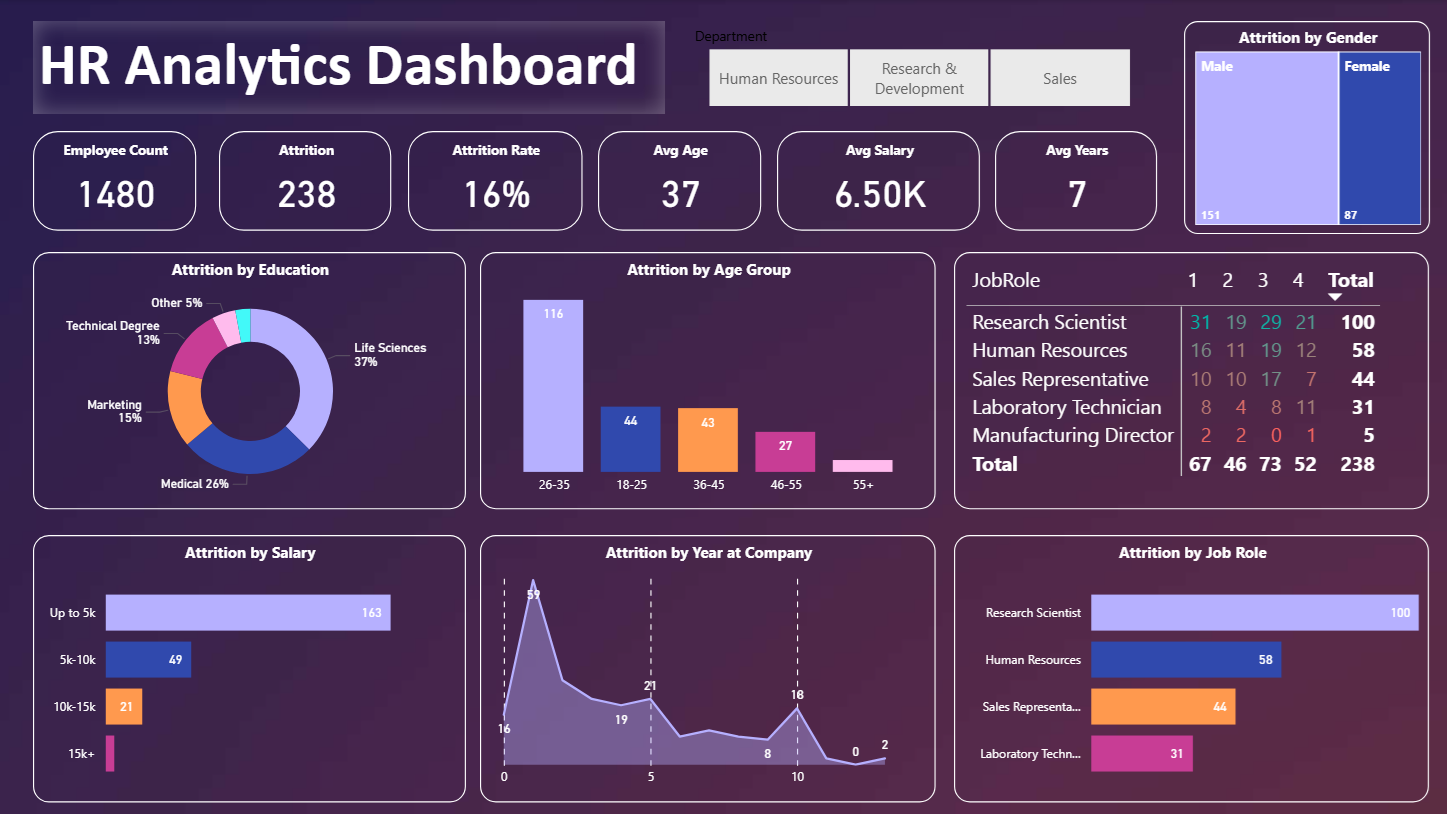

The page's visual inventory and layout, read from the dashboard file:
{"tool":"powerbi","page":{"name":"Page 1","canvas":[1280,720],"ordinal":0},"visuals":[{"type":"card","title":"Employee Count","fields":{"Values":["CountNonNull(HR_Data.EmpID)"]},"box":[29.2,115.7,143.8,87.6],"z":0},{"type":"card","title":"Attrition","fields":{"Values":["Sum(HR_Data.Attrition_Count)"]},"box":[193.5,115.7,152.4,87.6],"z":1000},{"type":"card","title":"Attrition Rate","fields":{"Values":["HR_Data.Attrition_Rate"]},"box":[360,115.7,153.5,87.6],"z":2000},{"type":"card","title":"Avg Age","fields":{"Values":["Avg(HR_Data.Age)"]},"box":[527.6,115.7,143.8,87.6],"z":3000},{"type":"card","title":"Avg Salary","fields":{"Values":["Avg(HR_Data.MonthlyIncome)"]},"box":[685.4,115.7,179.5,87.6],"z":4000},{"type":"card","title":"Avg Years","fields":{"Values":["Avg(HR_Data.YearsAtCompany)"]},"box":[877.8,115.7,142.7,87.6],"z":5000},{"type":"textbox","box":[29.2,18.4,557.8,82.2],"z":6000},{"type":"slicer","title":"Departments","fields":{"Values":["Departments.Department"]},"box":[600,18.4,420.5,82.2],"z":7000},{"type":"treemap","title":" Attrition by Gender","fields":{"Group":["HR_Data.Gender"],"Values":["Sum(HR_Data.Attrition_Count)"]},"box":[1044.3,18.4,217.3,188.1],"z":8000},{"type":"donutChart","title":"Attrition by Education","fields":{"Category":["Education.Education"],"Y":["Sum(HR_Data.Attrition_Count)"]},"box":[29.2,222.7,381.6,227],"z":9000},{"type":"barChart","title":"Attrition by Salary","fields":{"Category":["HR_Data.SalarySlab"],"Y":["Sum(HR_Data.Attrition_Count)"],"Series":["HR_Data.SalarySlab"]},"box":[29.2,472.4,381.6,235.7],"z":10000},{"type":"pivotTable","title":"Attrition by Education","fields":{"Values":["Sum(HR_Data.Attrition_Count)"],"Rows":["Jobs.JobRole"],"Columns":["HR_Data.JobSatisfaction"]},"box":[842.2,222.7,419.5,227],"z":11000},{"type":"areaChart","title":"Attrition by Year at Company","fields":{"Category":["HR_Data.YearsAtCompany"],"Y":["Sum(HR_Data.Attrition_Count)"]},"box":[423.8,472.4,402.2,235.7],"z":12000},{"type":"columnChart","title":"Attrition by Age Group","fields":{"Y":["Sum(HR_Data.Attrition_Count)"],"Series":["HR_Data.AgeGroup"],"Category":["HR_Data.AgeGroup"]},"box":[423.8,222.7,402.2,227],"z":13000},{"type":"barChart","title":"Attrition by Job Role","fields":{"Y":["Sum(HR_Data.Attrition_Count)"],"Category":["Jobs.JobRole"],"Series":["Jobs.JobRole"]},"box":[842.2,472.4,419.5,235.7],"z":14000}]}

Visuals, with their boxes in screenshot pixels (x1, y1, x2, y2), scaled from the page's 1280x720 canvas onto the 1447x814 screenshot:
"Employee Count" card: detection(33, 131, 196, 230)
"Attrition" card: detection(219, 131, 391, 230)
"Attrition Rate" card: detection(407, 131, 580, 230)
"Avg Age" card: detection(596, 131, 759, 230)
"Avg Salary" card: detection(775, 131, 978, 230)
"Avg Years" card: detection(992, 131, 1154, 230)
textbox: detection(33, 21, 664, 114)
"Departments" slicer: detection(678, 21, 1154, 114)
" Attrition by Gender" treemap: detection(1181, 21, 1426, 233)
"Attrition by Education" donutChart: detection(33, 252, 464, 508)
"Attrition by Salary" barChart: detection(33, 534, 464, 801)
"Attrition by Education" pivotTable: detection(952, 252, 1426, 508)
"Attrition by Year at Company" areaChart: detection(479, 534, 934, 801)
"Attrition by Age Group" columnChart: detection(479, 252, 934, 508)
"Attrition by Job Role" barChart: detection(952, 534, 1426, 801)
